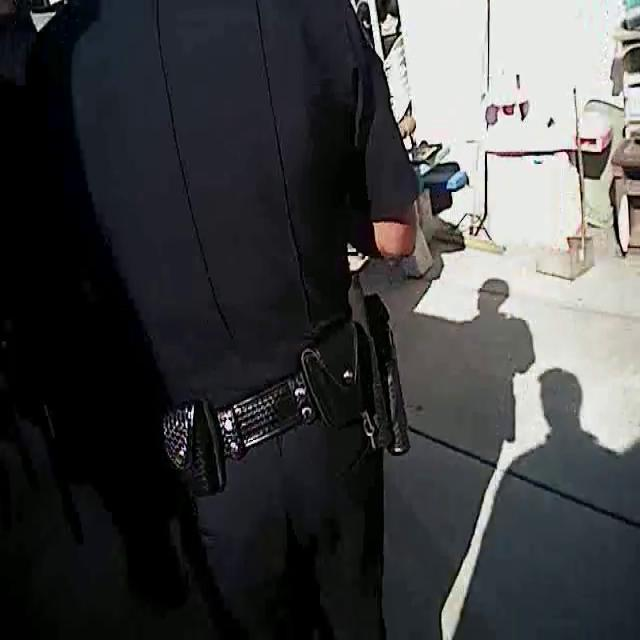gun: (332, 264, 434, 473)
